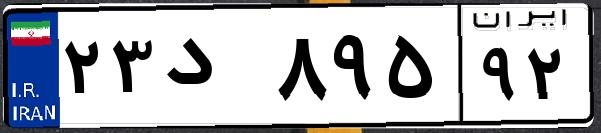2: (57, 26, 110, 100), (525, 38, 570, 115)
3: (110, 28, 158, 98)
5: (385, 28, 445, 110)
8: (270, 28, 330, 110)
9: (330, 28, 385, 110), (475, 38, 525, 113)
د: (158, 20, 270, 120)
